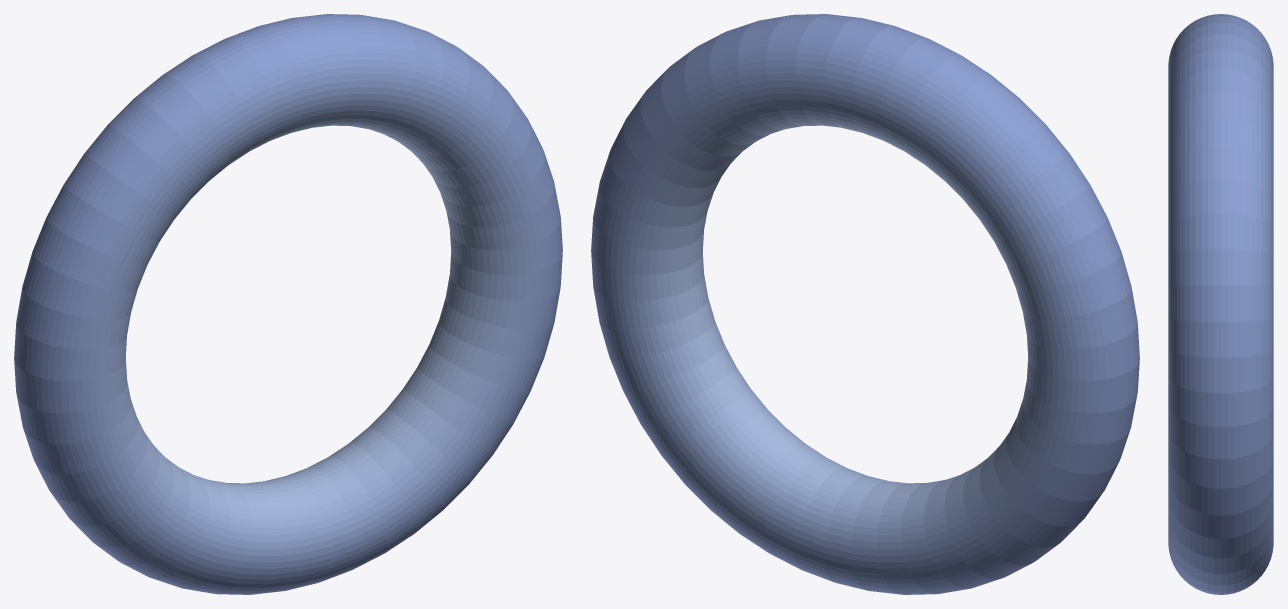
3 renders of one model, left to right at view 1: azimuth 30°, elevation 25°; view 2: azimuth 150°, elevation 25°; view 3: azimuth 270°, elevation 25°, orthographic. The views are drawn at different scales.
Parts seen in each view (by area): view 1: world; view 2: world; view 3: world.
Boxes of the visible parts, x1,y1,x2,y2 form: world: (14, 14, 562, 594); world: (591, 14, 1139, 594); world: (1168, 14, 1273, 594).
Bounding box in the file's own units: 22.8 × 22.76 × 4.13.
